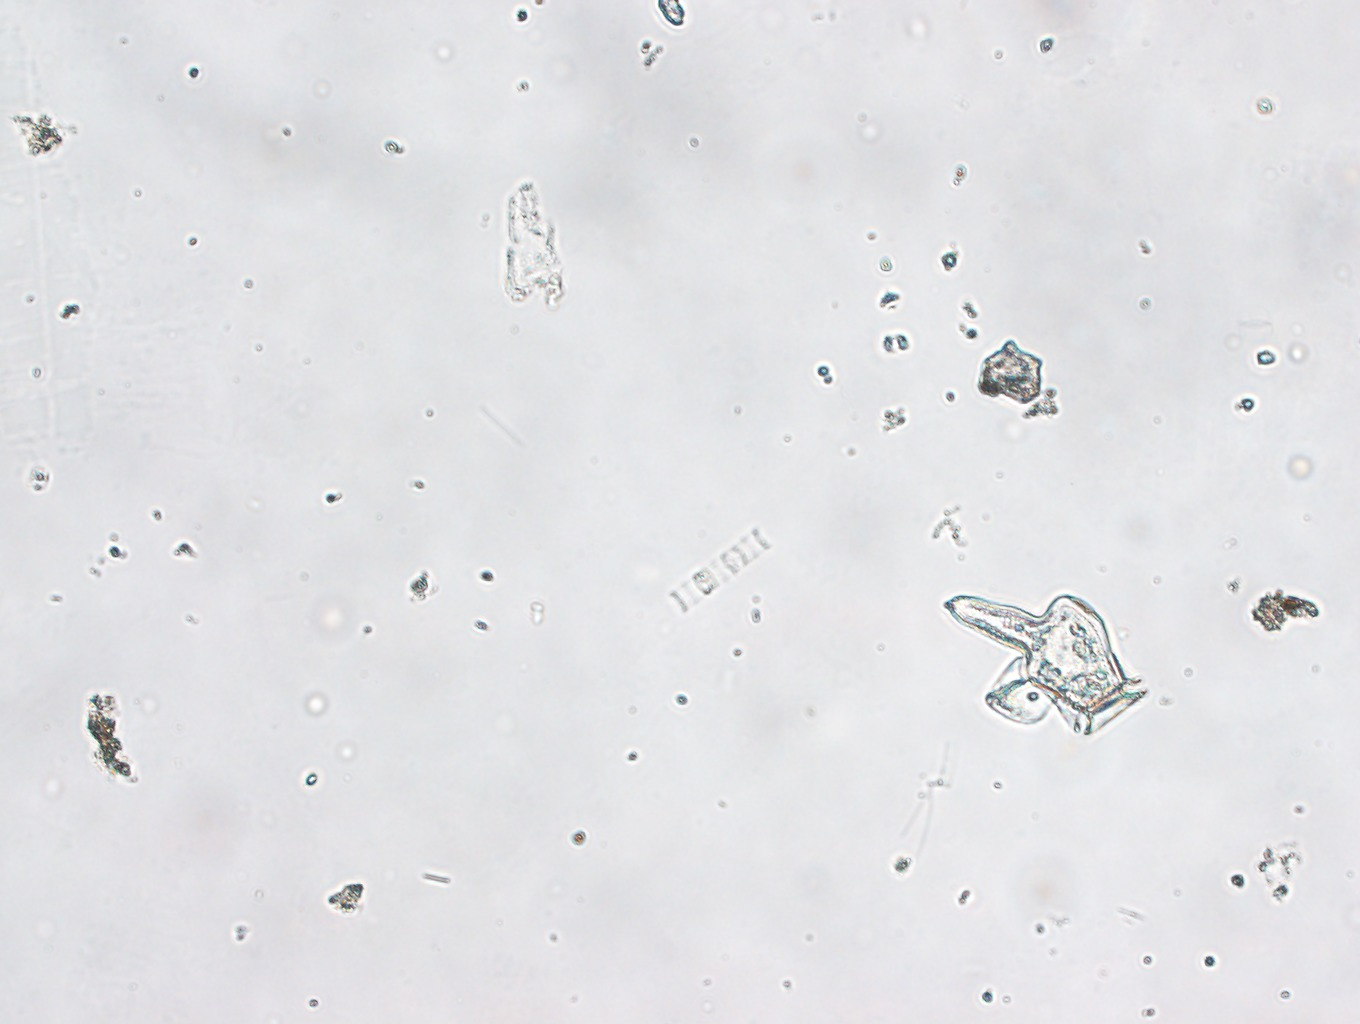dinophysis caudata: (939, 582, 1166, 746)
